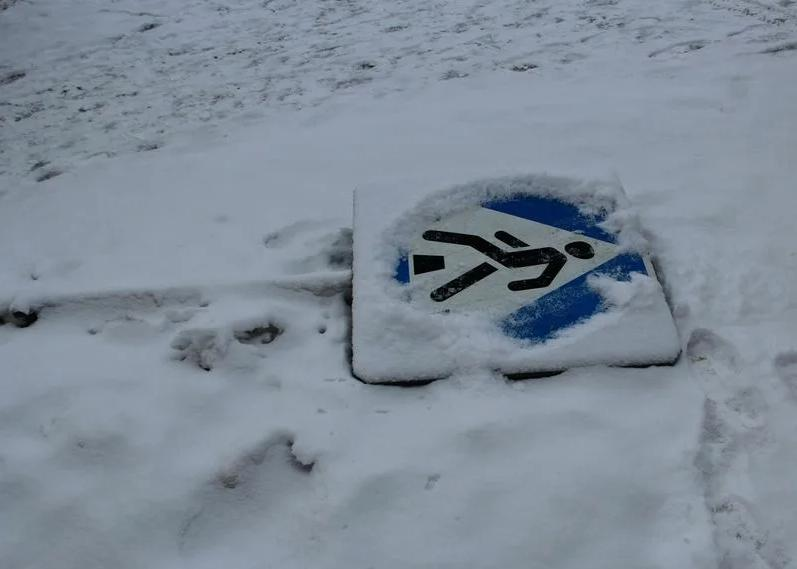obstructed_road_sign: (351, 175, 683, 381)
